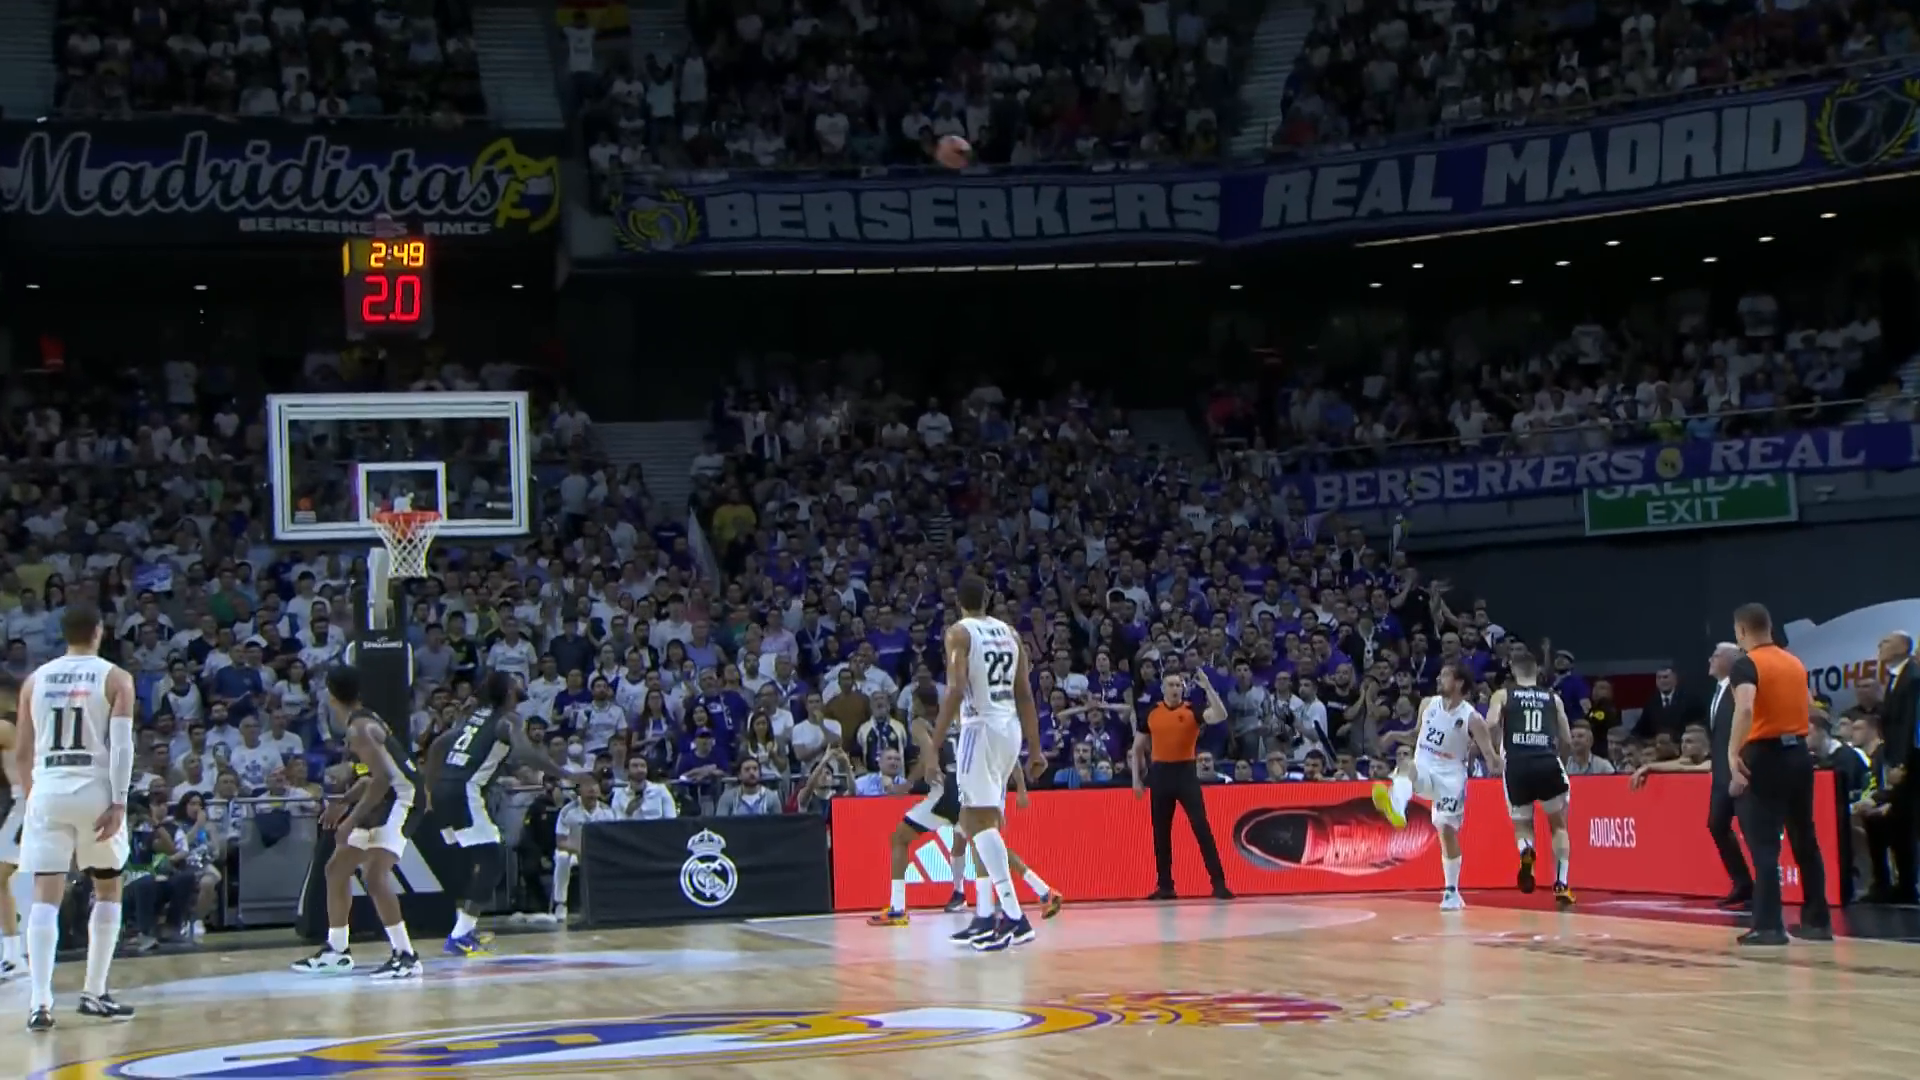ball: (930, 132, 977, 171)
net: (371, 508, 450, 582)
